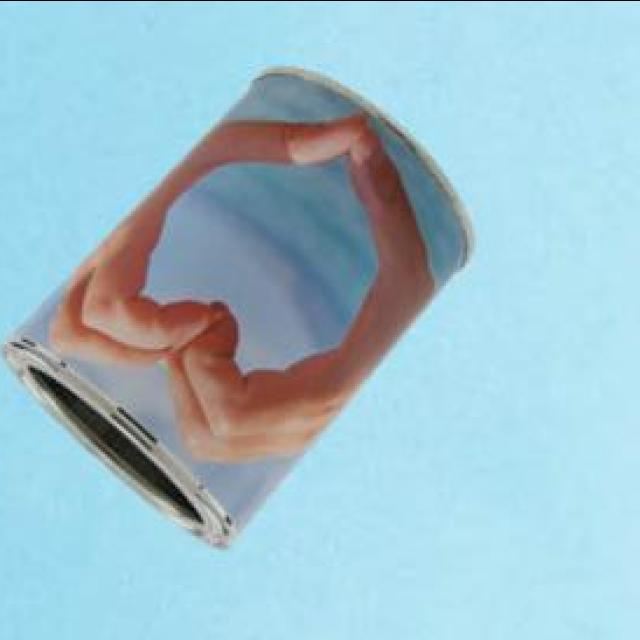logam: (0, 71, 471, 552)
